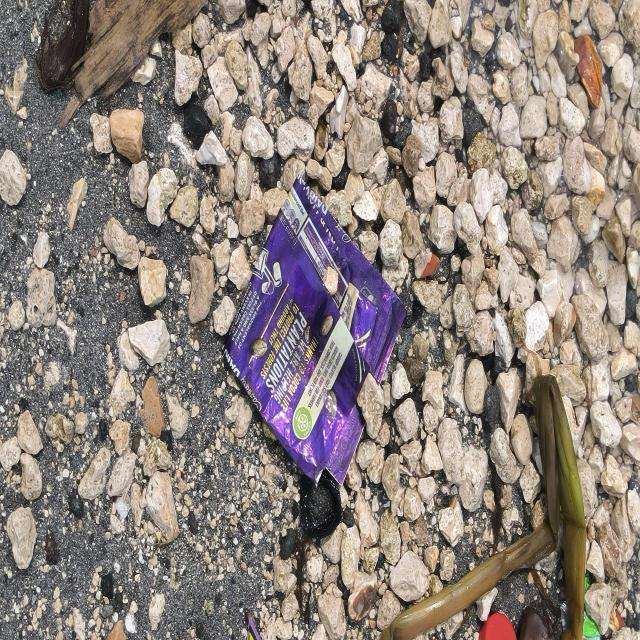plastic_waste: (221, 174, 411, 491)
